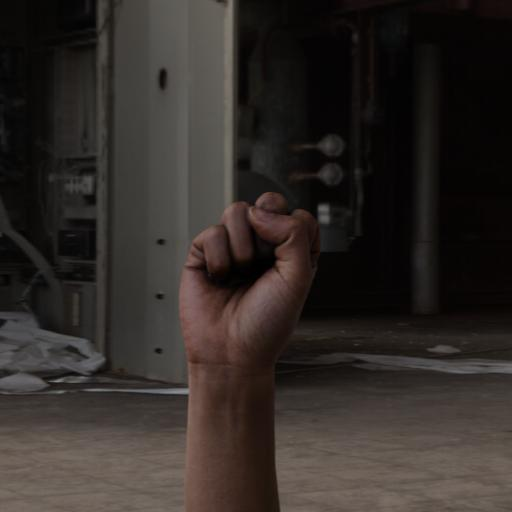S: (172, 186, 328, 369)
